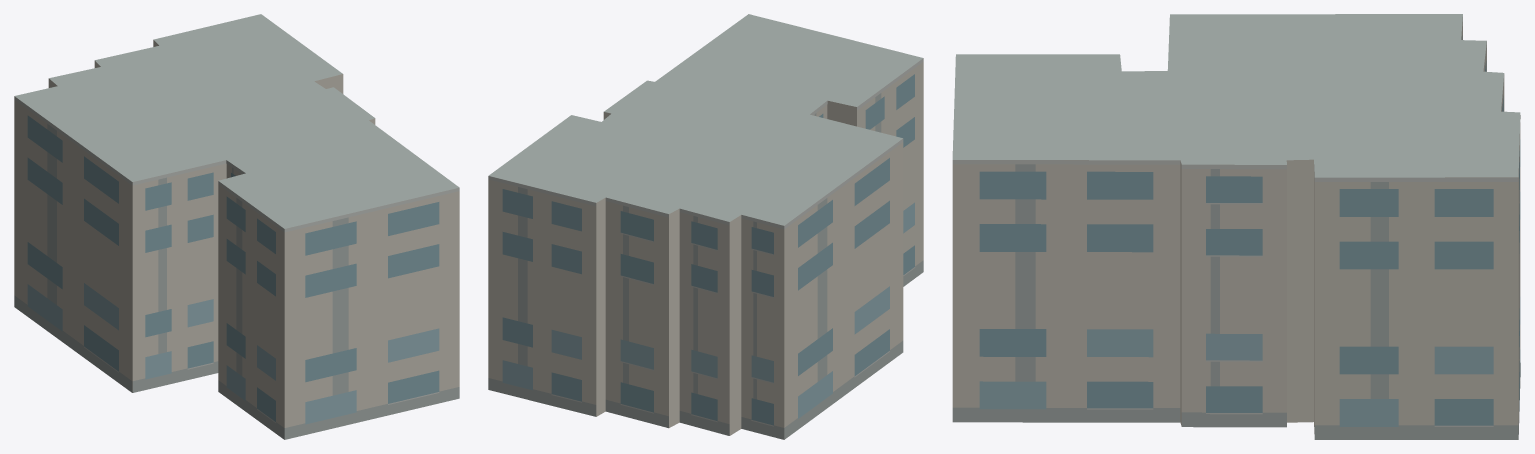
Rendered from survey-upis-32813392.glb.
3 renders of one model, left to right at view 1: azimuth 30°, elevation 25°; view 2: azimuth 150°, elevation 25°; view 3: azimuth 270°, elevation 25°, orthographic. The views are drawn at different scales.
Parts seen in each view (by area): view 1: survey-upis-32813392.tmp; view 2: survey-upis-32813392.tmp; view 3: survey-upis-32813392.tmp.
Boxes of the visible parts, bbox=[...] form: survey-upis-32813392.tmp: bbox=[14, 14, 459, 439]; survey-upis-32813392.tmp: bbox=[488, 14, 923, 439]; survey-upis-32813392.tmp: bbox=[952, 14, 1520, 439].
Bounding box in the file's own units: 19.52 × 14.6 × 28.65.
